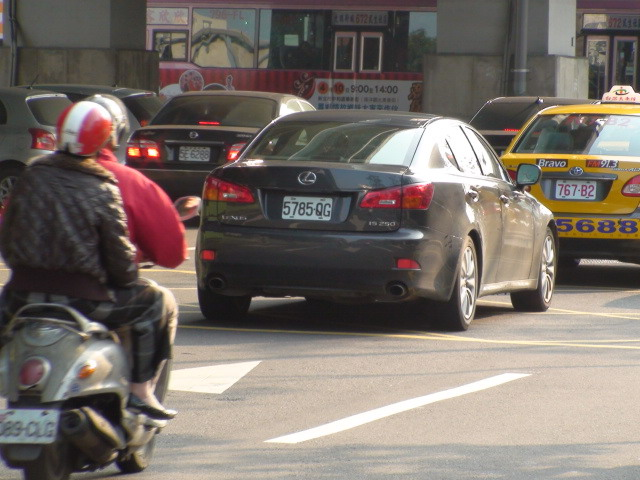plate: (1, 407, 60, 449), (282, 192, 333, 223), (555, 176, 598, 203), (178, 142, 213, 163)
